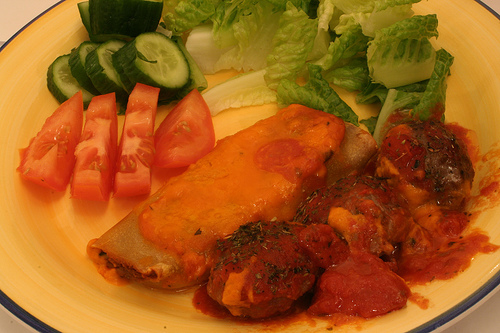cucumber: (116, 29, 193, 108), (88, 1, 165, 42), (45, 53, 94, 111)
